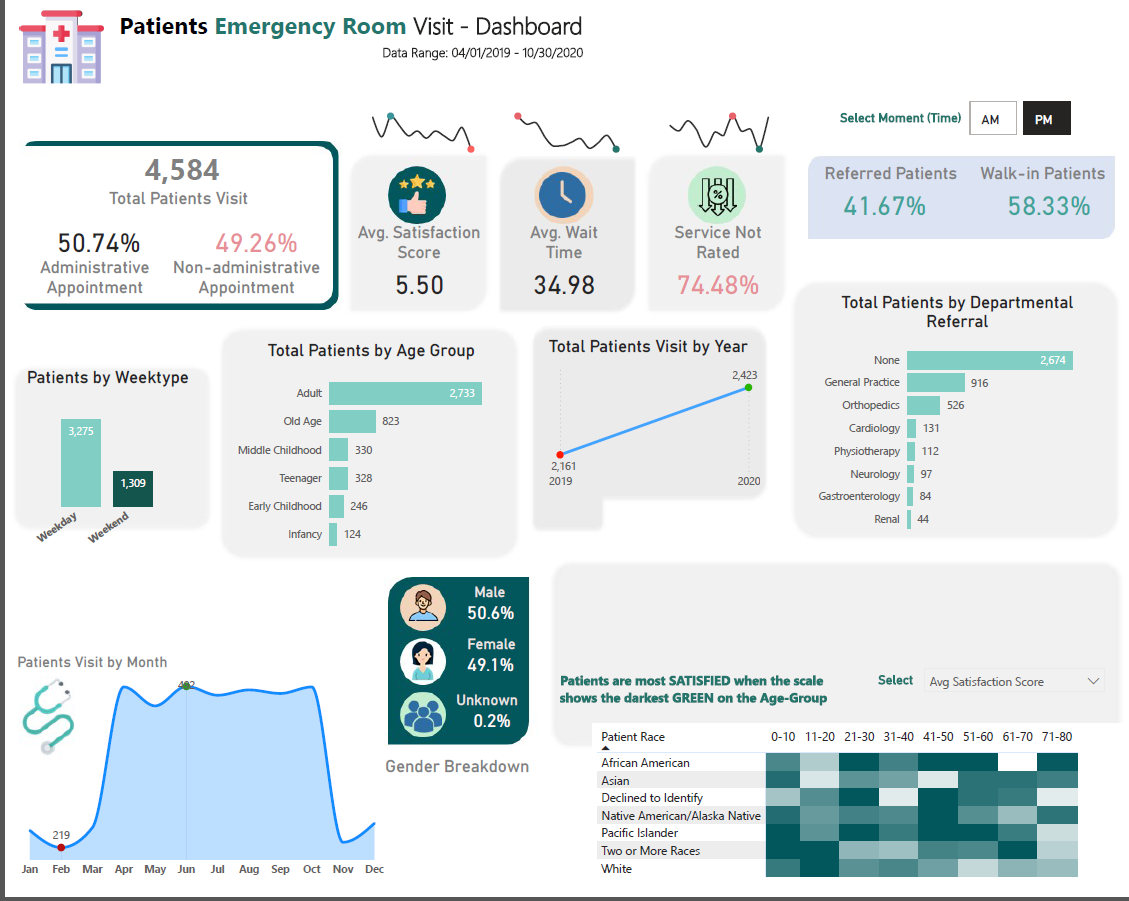

Layout of this report page (visuals, bound fields, positions):
{"tool":"powerbi","page":{"name":"Page 1","canvas":[1280,1020],"ordinal":0},"visuals":[{"type":"card","fields":{"Values":["Calculations.Total Patients"]},"box":[117.3,164.2,168.9,64.1],"z":0},{"type":"card","fields":{"Values":["Calculations.% Non-administrative Schedule"]},"box":[214.3,244,143.9,68.8],"z":1000},{"type":"card","fields":{"Values":["Calculations.% Administrative Schedule"]},"box":[26.6,236.2,158,84.5],"z":2000},{"type":"card","title":"Avg. Satisfaction Score","fields":{"Values":["Calculations.Avg Satisfaction Score"]},"box":[394.2,256.5,153.3,92.3],"z":3000},{"type":"card","title":"Avg. Wait Time","fields":{"Values":["Calculations.Avg Wait Time"]},"box":[580.3,256.5,111.1,92.3],"z":4000},{"type":"pivotTable","fields":{"Values":["Calculations.Avg Satisfaction Score"],"Rows":["Patient Dataset.patient_race"],"Columns":["Patient Dataset.Age Bucket"]},"box":[667.9,827.4,611.6,192.4],"z":5000},{"type":"slicer","fields":{"Values":["Parameter.Parameter"]},"box":[1035.5,753.9,225.2,56.3],"z":6000},{"type":"barChart","fields":{"Category":["Patient Dataset.Age Group"],"Y":["Calculations.Total Patients"]},"box":[251.8,391,328.5,251.8],"z":7000},{"type":"lineChart","title":"Patients Visit by Month","fields":{"Category":["Date Table.Month-Year"],"Y":["Calculations.Total Patients","Calculations.Max/Min Value Point (Month)"]},"box":[26.6,755.5,416.1,264.3],"z":8000},{"type":"advancedSlicerVisual","fields":{"Values":["Patient Dataset.moment"]},"box":[1091.8,117.3,187.7,48.5],"z":9000},{"type":"lineChart","title":"Total Patients Visit by Year","fields":{"Category":["Date Table.Year"],"Y":["Calculations.Total Patients"]},"box":[613.1,386.3,250.3,183],"z":10000},{"type":"barChart","title":"Total Patients by Departmental Referral","fields":{"Y":["Calculations.Total Patients"],"Category":["Patient Dataset.department_referral"]},"box":[911.9,336.3,341,284.7],"z":11000},{"type":"card","fields":{"Values":["Calculations.% Referred Patients"]},"box":[918.2,194,164.2,84.5],"z":12000},{"type":"card","fields":{"Values":["Calculations.% Unreferred Patients"]},"box":[1112.1,194,148.6,84.5],"z":13000},{"type":"card","fields":{"Values":["Calculations.HitMap Caption"]},"box":[613.1,750.8,339.4,72],"z":14000},{"type":"textbox","box":[26.6,292.5,150.2,62.6],"z":15000},{"type":"textbox","box":[176.7,292.5,195.5,76.6],"z":16000},{"type":"card","title":"Service Not Rated","fields":{"Values":["Calculations.% No ratings"]},"box":[747.7,256.5,125.1,93.8],"z":17000},{"type":"textbox","box":[918.2,184.6,178.3,43.8],"z":18000},{"type":"textbox","box":[1092.2,185.2,176,68],"z":19000},{"type":"columnChart","title":"Patients by Weektype","fields":{"Category":["Date Table.Weektype"],"Y":["Calculations.Total Patients"]},"box":[6.3,420.8,222.1,222.1],"z":20000},{"type":"card","fields":{"Values":["Calculations.% Female Visits"]},"box":[497.4,727.3,109.5,64.1],"z":21000},{"type":"card","fields":{"Values":["Calculations.% Male Visits"]},"box":[503.7,669.5,95.4,62.6],"z":22000},{"type":"card","fields":{"Values":["Calculations.% Non-confirming Gender Visits"]},"box":[502.1,786.8,103.2,72],"z":23000},{"type":"textbox","box":[109.5,212.7,176.7,62.6],"z":24000},{"type":"PBI_CV_25997FEB_F466_44FA_B562_AC4063283C4C","fields":{"measure":["Calculations.Avg Satisfaction Score"],"axis":["Date Table.Month-Year"]},"box":[400.4,118.9,151.7,65.7],"z":25000},{"type":"PBI_CV_25997FEB_F466_44FA_B562_AC4063283C4C","fields":{"measure":["Calculations.Avg Wait Time"],"axis":["Date Table.Month-Year"]},"box":[564.7,118.9,151.7,65.7],"z":26000},{"type":"PBI_CV_25997FEB_F466_44FA_B562_AC4063283C4C","fields":{"measure":["Calculations.% No ratings"],"axis":["Date Table.Month-Year"]},"box":[738.3,118.9,151.7,65.7],"z":27000},{"type":"textbox","box":[428.6,850.9,184.6,37.5],"z":28000},{"type":"textbox","box":[491.1,783.6,114.2,34.4],"z":29000},{"type":"textbox","box":[495.8,721.1,114.2,34.4],"z":30000},{"type":"textbox","box":[494.3,661.6,114.2,34.4],"z":31000},{"type":"textbox","box":[125.1,9.4,550.6,48.5],"z":32000},{"type":"image","box":[10.9,4.7,106.4,104.8],"z":33000},{"type":"textbox","box":[957.3,763.3,111.1,36],"z":34000},{"type":"textbox","box":[939,123.6,158,36],"z":35000},{"type":"textbox","box":[423.9,48.5,292.5,40.7],"z":36000}]}

Visuals, with their boxes in screenshot pixels (x1, y1, x2, y2), scaled from the page's 1280x1020 canvas onto the 1129x901 screenshot:
card - Calculations.Total Patients: <bbox>103, 145, 252, 202</bbox>
card - Calculations.% Non-administrative Schedule: <bbox>189, 216, 316, 276</bbox>
card - Calculations.% Administrative Schedule: <bbox>23, 209, 163, 283</bbox>
"Avg. Satisfaction Score" card: <bbox>348, 227, 483, 308</bbox>
"Avg. Wait Time" card: <bbox>512, 227, 610, 308</bbox>
pivotTable - Calculations.Avg Satisfaction Score x Patient Dataset.patient_race: <bbox>589, 731, 1128, 900</bbox>
slicer - Parameter.Parameter: <bbox>913, 666, 1112, 716</bbox>
barChart - Patient Dataset.Age Group x Calculations.Total Patients: <bbox>222, 345, 512, 568</bbox>
"Patients Visit by Month" lineChart: <bbox>23, 667, 390, 900</bbox>
advancedSlicerVisual - Patient Dataset.moment: <bbox>963, 104, 1128, 146</bbox>
"Total Patients Visit by Year" lineChart: <bbox>541, 341, 762, 503</bbox>
"Total Patients by Departmental Referral" barChart: <bbox>804, 297, 1105, 549</bbox>
card - Calculations.% Referred Patients: <bbox>810, 171, 955, 246</bbox>
card - Calculations.% Unreferred Patients: <bbox>981, 171, 1112, 246</bbox>
card - Calculations.HitMap Caption: <bbox>541, 663, 840, 727</bbox>
textbox: <bbox>23, 258, 156, 314</bbox>
textbox: <bbox>156, 258, 328, 326</bbox>
"Service Not Rated" card: <bbox>659, 227, 770, 309</bbox>
textbox: <bbox>810, 163, 967, 202</bbox>
textbox: <bbox>963, 164, 1119, 224</bbox>
"Patients by Weektype" columnChart: <bbox>6, 372, 201, 568</bbox>
card - Calculations.% Female Visits: <bbox>439, 642, 535, 699</bbox>
card - Calculations.% Male Visits: <bbox>444, 591, 528, 647</bbox>
card - Calculations.% Non-confirming Gender Visits: <bbox>443, 695, 534, 759</bbox>
textbox: <bbox>97, 188, 252, 243</bbox>
PBI_CV_25997FEB_F466_44FA_B562_AC4063283C4C - Calculations.Avg Satisfaction Score x Date Table.Month-Year: <bbox>353, 105, 487, 163</bbox>
PBI_CV_25997FEB_F466_44FA_B562_AC4063283C4C - Calculations.Avg Wait Time x Date Table.Month-Year: <bbox>498, 105, 632, 163</bbox>
PBI_CV_25997FEB_F466_44FA_B562_AC4063283C4C - Calculations.% No ratings x Date Table.Month-Year: <bbox>651, 105, 785, 163</bbox>
textbox: <bbox>378, 752, 541, 785</bbox>
textbox: <bbox>433, 692, 534, 723</bbox>
textbox: <bbox>437, 637, 538, 667</bbox>
textbox: <bbox>436, 584, 537, 615</bbox>
textbox: <bbox>110, 8, 596, 51</bbox>
image: <bbox>10, 4, 103, 97</bbox>
textbox: <bbox>844, 674, 942, 706</bbox>
textbox: <bbox>828, 109, 968, 141</bbox>
textbox: <bbox>374, 43, 632, 79</bbox>
